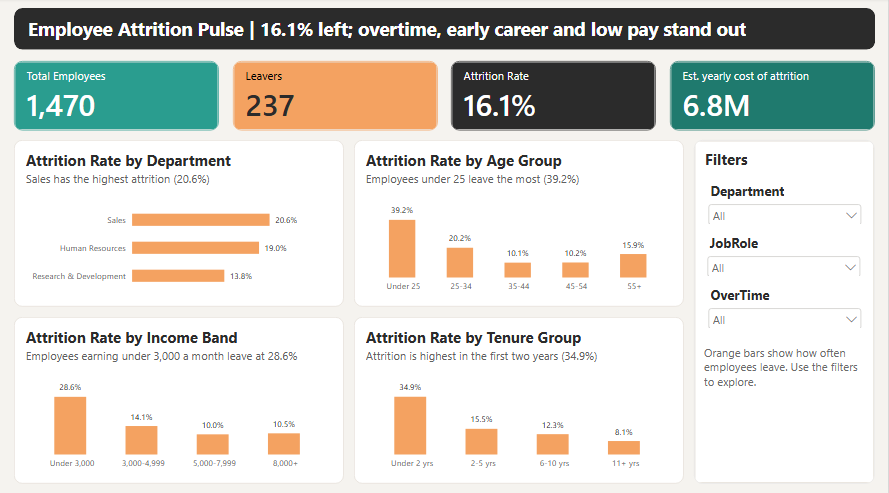

Layout of this report page (visuals, bound fields, positions):
{"tool":"powerbi","page":{"name":"Attrition Pulse","canvas":[1280,720],"ordinal":0},"visuals":[{"type":"shape","box":[20,15,1240,60],"z":0},{"type":"cardVisual","fields":{"Data":["Employees.Total Employees Display"]},"box":[20.2,90,295,100],"z":1000},{"type":"cardVisual","fields":{"Data":["Employees.Leavers"]},"box":[335,90,295,100],"z":2000},{"type":"cardVisual","fields":{"Data":["Employees.Attrition Cost Display"]},"box":[965,90,295,100],"z":3000},{"type":"cardVisual","fields":{"Data":["Employees.Attrition Rate"]},"box":[650,90,295,100],"z":4000},{"type":"clusteredBarChart","title":"Attrition Rate by Department","fields":{"Category":["Employees.Department"],"Y":["Employees.Attrition Rate"]},"box":[20,205,475,240],"z":5000},{"type":"clusteredColumnChart","fields":{"Category":["Employees.Age Group"],"Y":["Employees.Attrition Rate"]},"box":[510,205,475,240],"z":6000},{"type":"clusteredColumnChart","fields":{"Category":["Employees.Income Band"],"Y":["Employees.Attrition Rate"]},"box":[20,460,475,240],"z":7000},{"type":"clusteredColumnChart","fields":{"Category":["Employees.Tenure Group"],"Y":["Employees.Attrition Rate"]},"box":[510,460,475,240],"z":8000},{"type":"shape","box":[1000,205,260,495],"z":9000},{"type":"slicer","fields":{"Values":["Employees.Department"]},"box":[1015,265,230,60],"z":10000},{"type":"slicer","fields":{"Values":["Employees.JobRole"]},"box":[1014.1,340,230,60],"z":11000},{"type":"slicer","fields":{"Values":["Employees.OverTime"]},"box":[1015.9,415,230,60],"z":12000},{"type":"shape","title":"Orange bars show how often employees leave. Use the filters to explore.","box":[1013.8,499.7,230,80],"z":12001}]}

Visuals, with their boxes in screenshot pixels (x1, y1, x2, y2), scaled from the page's 1280x720 canvas onto the 889x493 screenshot:
shape: select_region(14, 10, 875, 51)
cardVisual - Employees.Total Employees Display: select_region(14, 62, 219, 130)
cardVisual - Employees.Leavers: select_region(233, 62, 438, 130)
cardVisual - Employees.Attrition Cost Display: select_region(670, 62, 875, 130)
cardVisual - Employees.Attrition Rate: select_region(451, 62, 656, 130)
"Attrition Rate by Department" clusteredBarChart: select_region(14, 140, 344, 305)
clusteredColumnChart - Employees.Age Group x Employees.Attrition Rate: select_region(354, 140, 684, 305)
clusteredColumnChart - Employees.Income Band x Employees.Attrition Rate: select_region(14, 315, 344, 479)
clusteredColumnChart - Employees.Tenure Group x Employees.Attrition Rate: select_region(354, 315, 684, 479)
shape: select_region(695, 140, 875, 479)
slicer - Employees.Department: select_region(705, 181, 865, 223)
slicer - Employees.JobRole: select_region(704, 233, 864, 274)
slicer - Employees.OverTime: select_region(706, 284, 865, 325)
"Orange bars show how often employees leave. Use the filters to explore." shape: select_region(704, 342, 864, 397)
